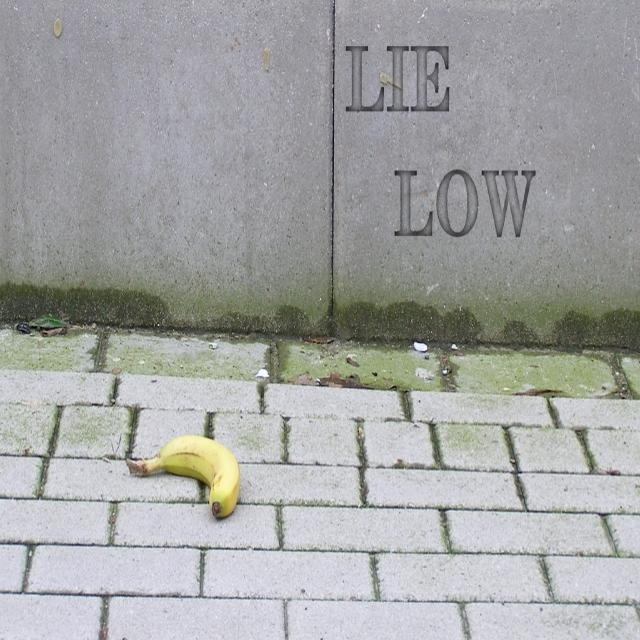Banana: (128, 425, 240, 522)
